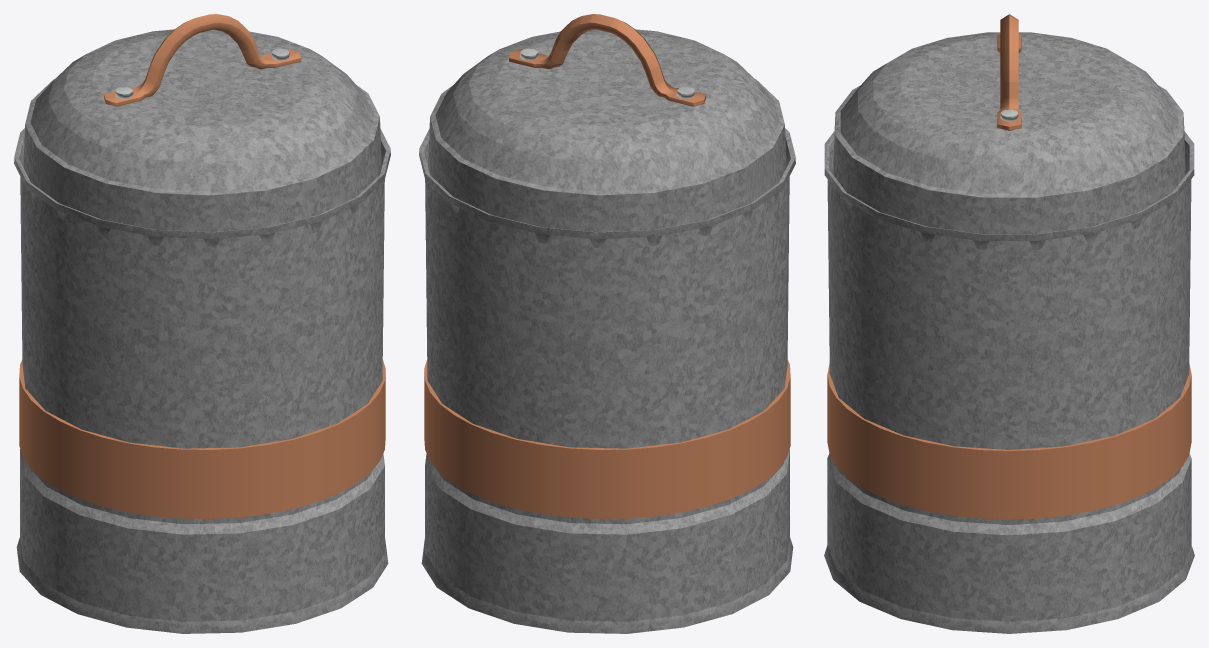
Rendered from golvanized.fbx.
The picture shows the model from 3 angles, left to right: view 1: azimuth 30°, elevation 25°; view 2: azimuth 150°, elevation 25°; view 3: azimuth 270°, elevation 25°; orthographic projection.
Visible parts, largest first — view 1: FIX_Galvanized_Small_Canister:polySurface1; view 2: FIX_Galvanized_Small_Canister:polySurface1; view 3: FIX_Galvanized_Small_Canister:polySurface1.
Boxes of the visible parts, x1,y1,x2,y2 form: FIX_Galvanized_Small_Canister:polySurface1: (14,14,390,633); FIX_Galvanized_Small_Canister:polySurface1: (419,14,795,633); FIX_Galvanized_Small_Canister:polySurface1: (824,14,1194,633).
Size of the model in its own units: 59.81 by 95.23 by 59.81.
1 material, 1 textured.
